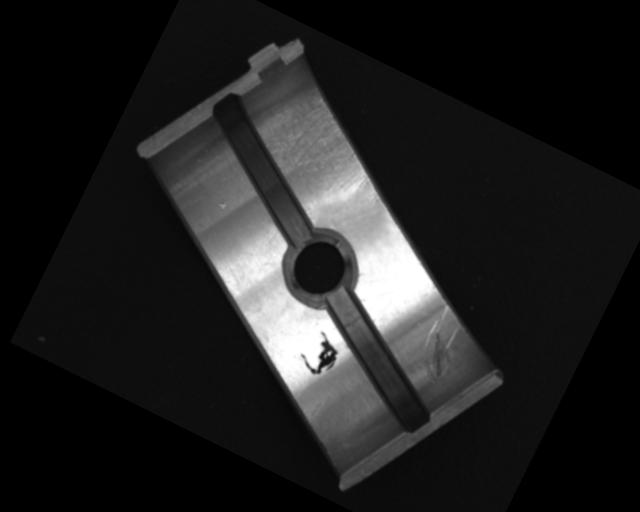blot: (294, 325, 346, 381)
bruise: (215, 197, 228, 210)
gap: (174, 87, 353, 250), (295, 285, 465, 437)
hole: (269, 220, 366, 317)
nick: (408, 301, 476, 388)
scratch: (243, 69, 411, 216)
